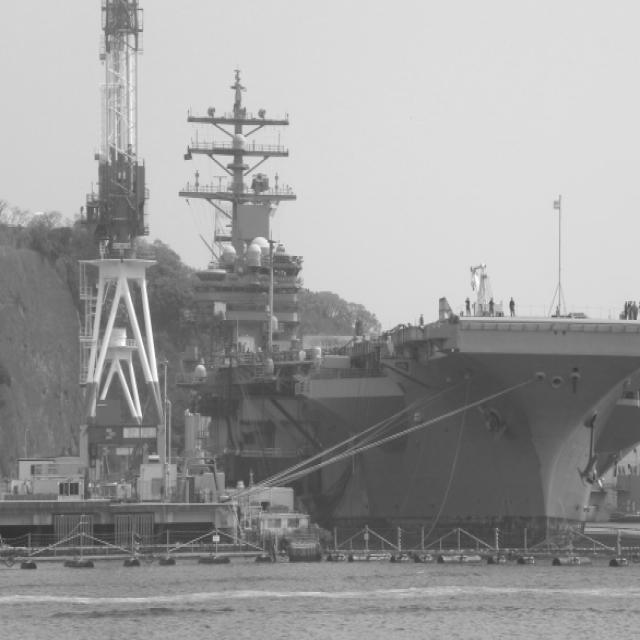Portanaves: (162, 57, 640, 552)
